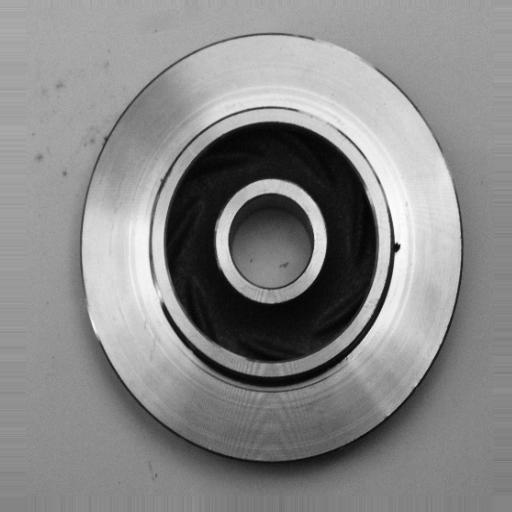crack: (380, 234, 414, 267)
scratch: (144, 265, 174, 313)
unpolished_casting: (79, 30, 461, 466)
